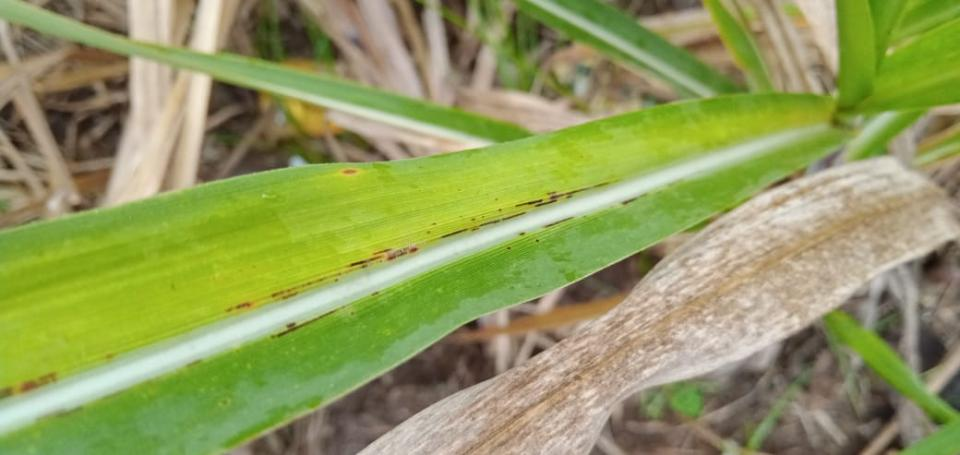Rust: (269, 310, 336, 341), (271, 276, 327, 299), (549, 181, 611, 200), (19, 372, 59, 394), (386, 243, 421, 262), (349, 254, 386, 267), (543, 215, 575, 229), (440, 228, 468, 239), (514, 198, 544, 208), (502, 211, 527, 221), (534, 199, 558, 208), (0, 385, 14, 400), (620, 196, 641, 206), (371, 247, 393, 256), (281, 291, 300, 300), (479, 219, 501, 226), (235, 301, 251, 310), (340, 168, 358, 175), (223, 306, 233, 314), (370, 290, 380, 298), (285, 322, 297, 328), (545, 191, 557, 196), (470, 227, 480, 232), (361, 263, 369, 269), (518, 231, 526, 236), (429, 221, 437, 226), (565, 195, 574, 199), (505, 247, 513, 251), (480, 214, 485, 219), (426, 230, 432, 234), (470, 218, 476, 222), (497, 208, 503, 212), (535, 239, 540, 242)
Yellow: (0, 107, 831, 399)
